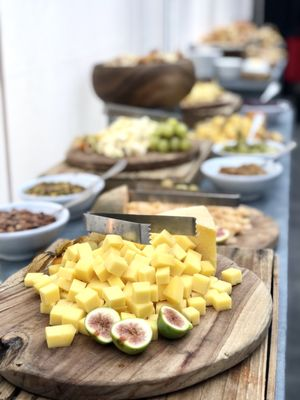sushi: (0, 200, 71, 263), (17, 171, 105, 221), (200, 153, 285, 195)
